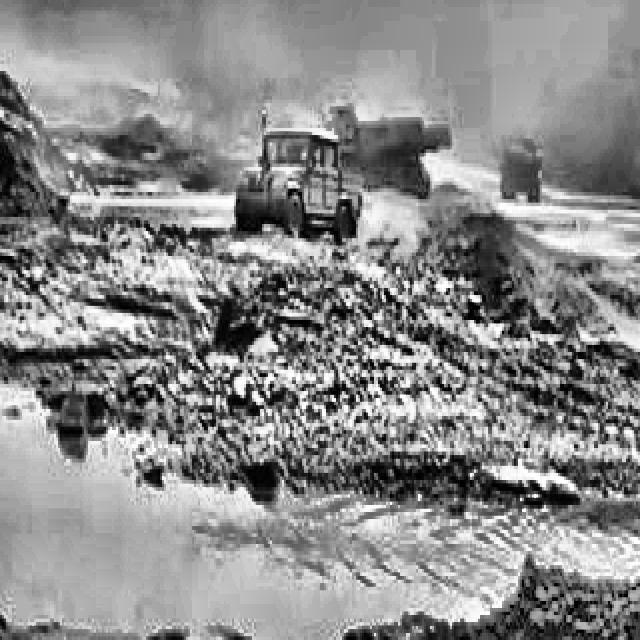light_vehicle: (239, 119, 369, 255)
